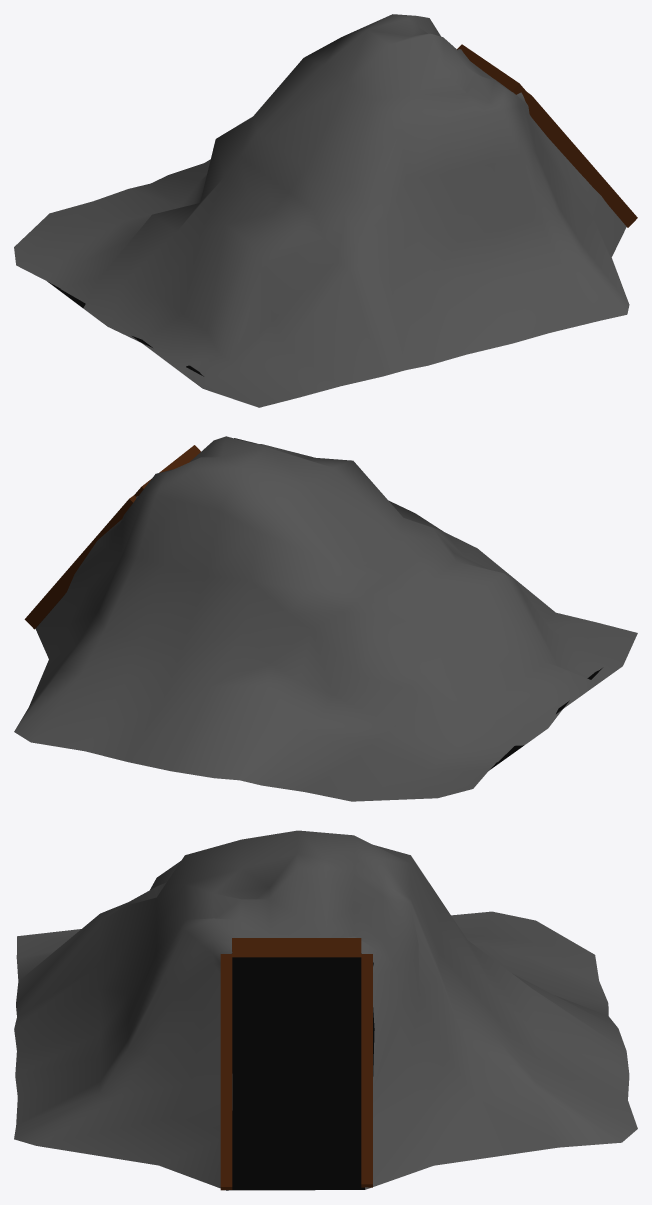
File: mine.obj
3 views of the same model, one above another, from view 1: azimuth 30°, elevation 25°; view 2: azimuth 150°, elevation 25°; view 3: azimuth 270°, elevation 25° (orthographic). The views are drawn at different scales.
Parts seen in each view (by area): view 1: Rock, Doors; view 2: Rock, Doors; view 3: Rock, Floor, Doors.
Part boxes in pixels (x1,y1,x2,y2): Rock: (14,14,629,407); Doors: (457,44,637,227); Rock: (14,436,637,801); Doors: (24,445,200,629); Rock: (14,830,637,1190); Floor: (226,953,374,1190); Doors: (220,938,372,1190).
Size of the model in its own units: 13.85 by 5.67 by 12.74.
